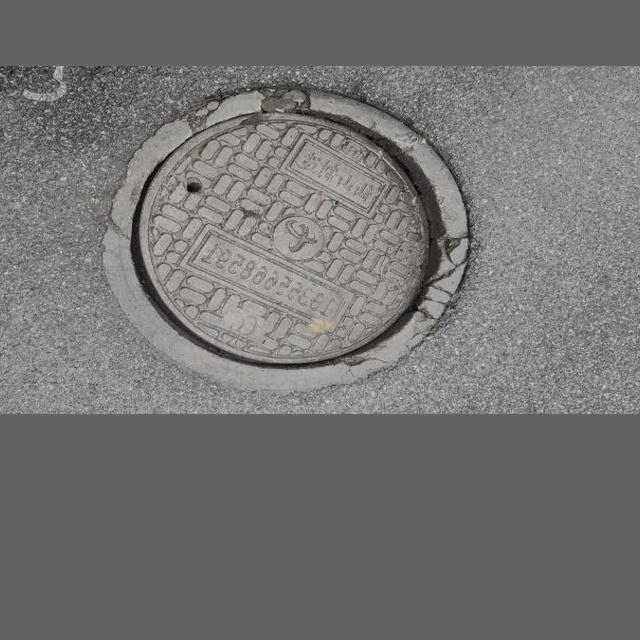circle: (80, 85, 521, 389)
